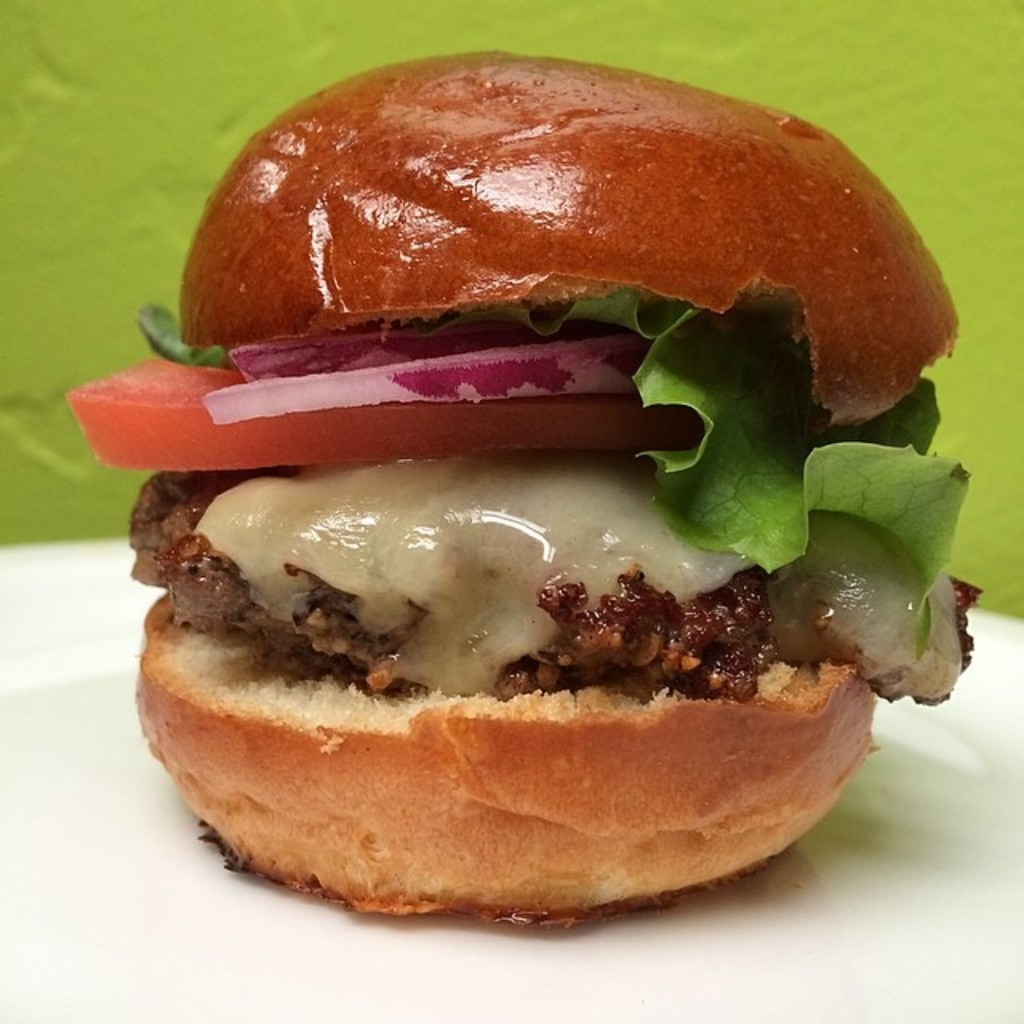Hamburger: (67, 54, 980, 915)
